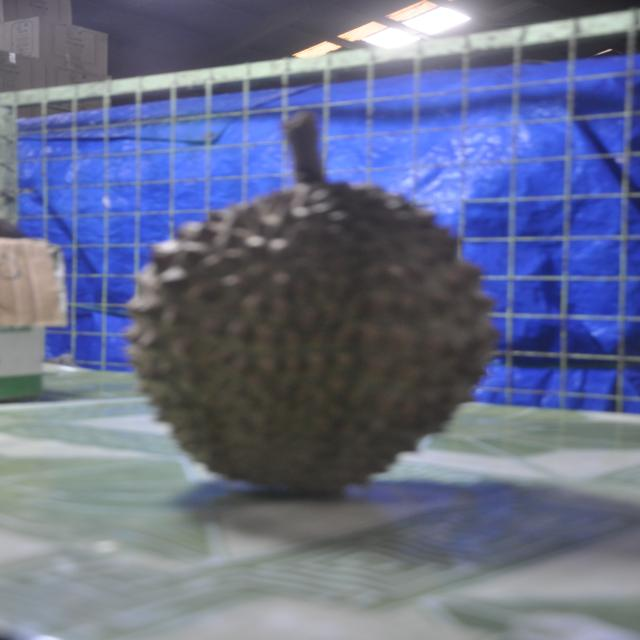mature: (128, 113, 496, 494)
